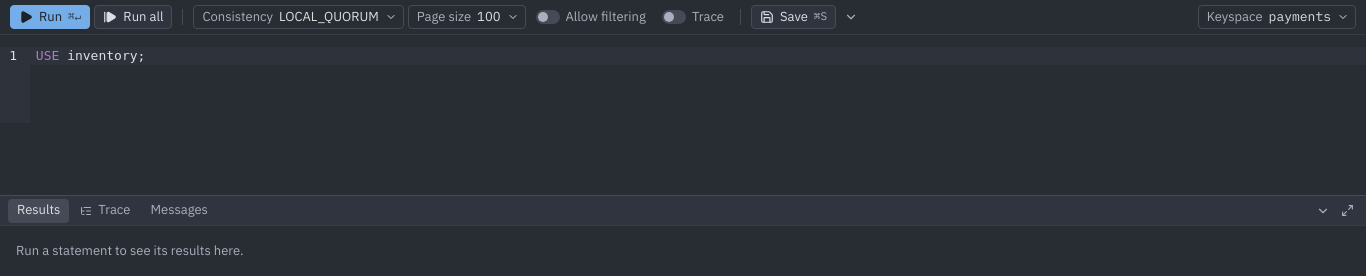
Test: QueryView › refreshes the schema and updates the keyspace after a schema change / USE
Expected: the button "Keyspace payments" is shown, top-left (1198, 5), bottom-right (1356, 29)
Click the button "Run ⌘↵" at x=50, y=17, box top-left (10, 5), bottom-right (90, 29)
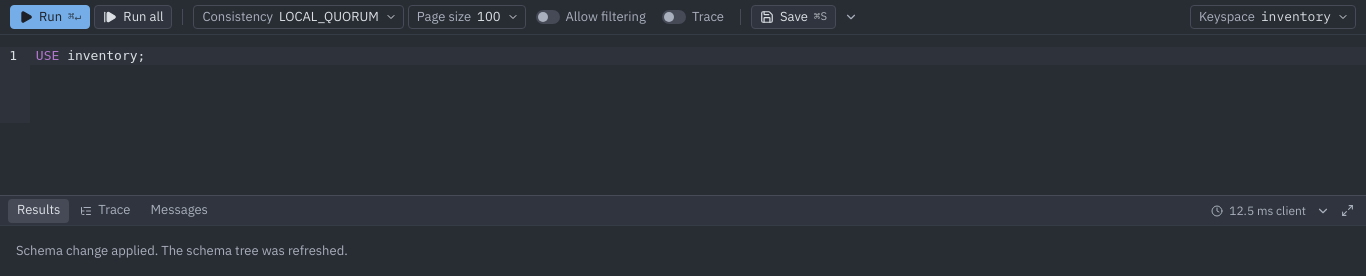
Now the text "Schema change applied. The schema tree was refreshed." is shown, box top-left (16, 242), bottom-right (348, 259)
Now the button with aria-label "Keyspace: inventory" is shown, box top-left (1190, 5), bottom-right (1356, 29)
